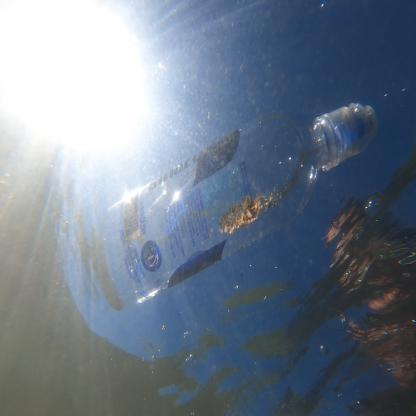Rác: (86, 96, 388, 304)
